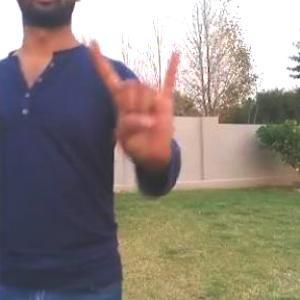takeoff-hand: (88, 31, 183, 165)
